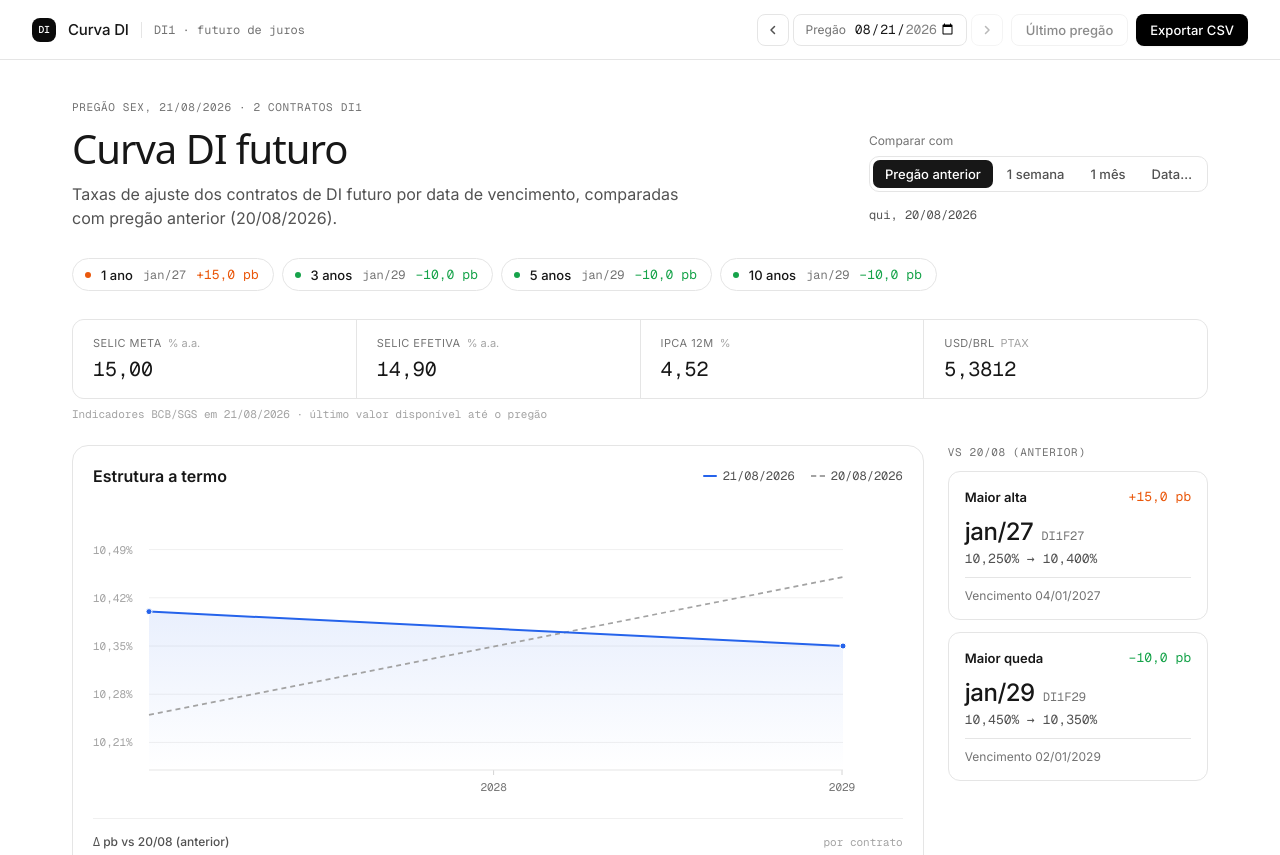
Test: App › data específica sem pregão faz snap para trás
This screenshot has width=1280, height=855.
Click the button "Data…" at (1172, 174), box [1140,160,1204,188]
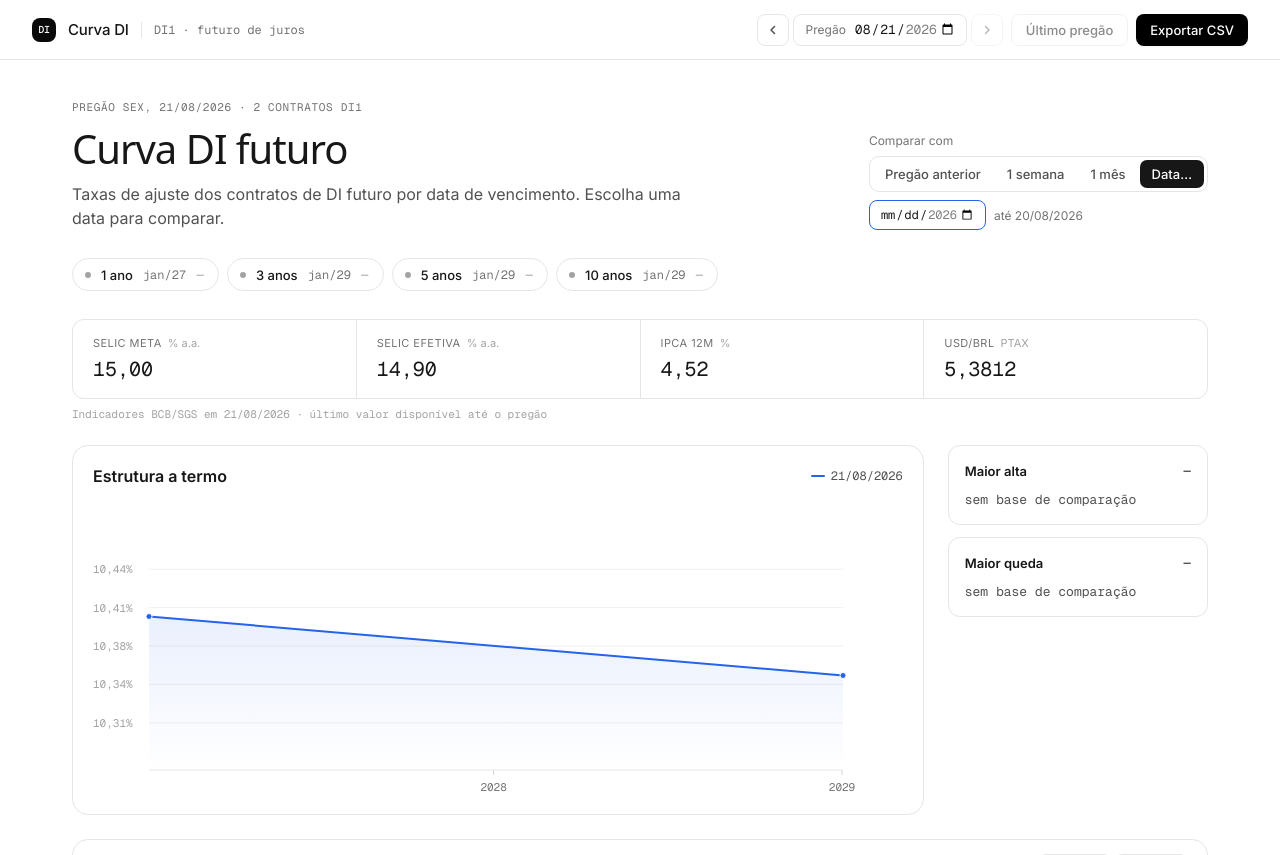
Type "2026-08-16" into the date field named "Data de comparação" at (927, 215), box [880,206,975,224]
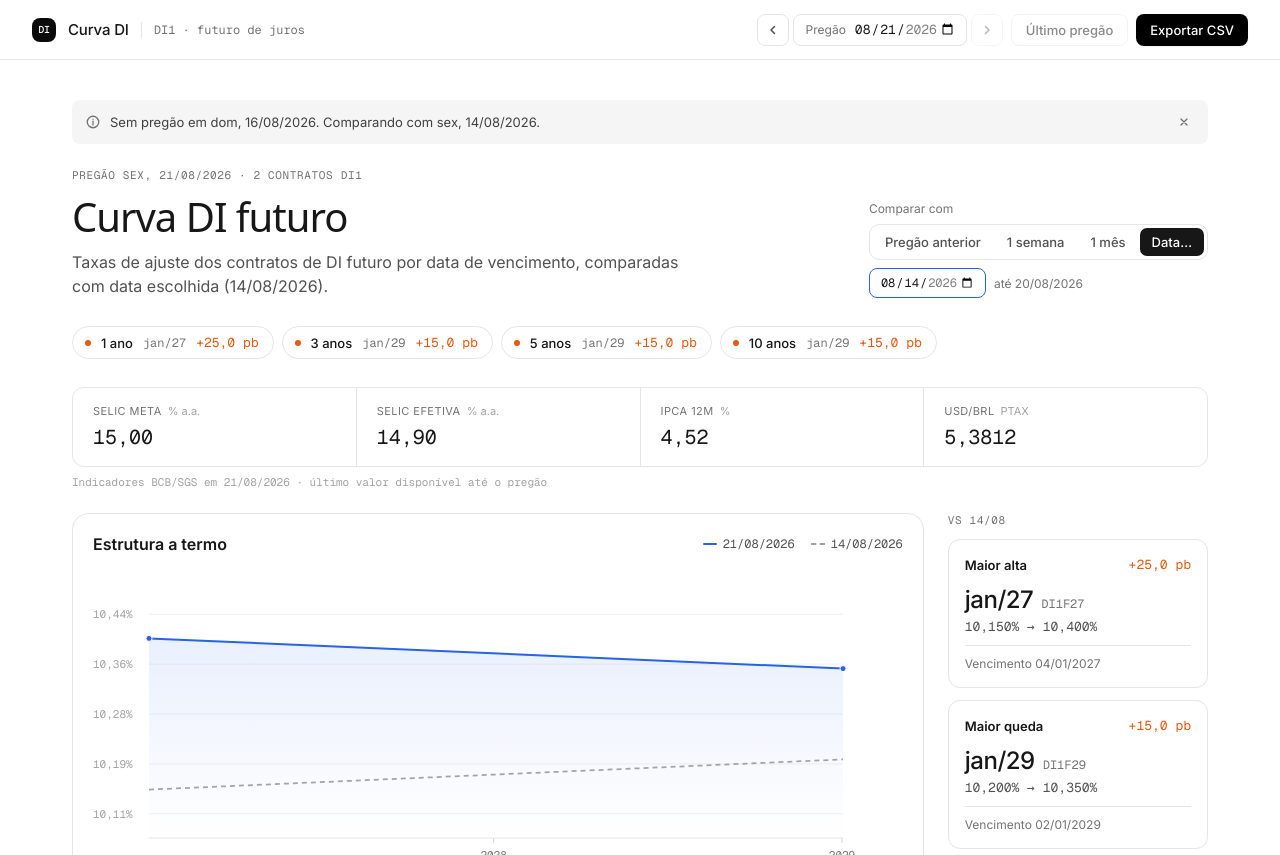
Expected: the date field named "Data de comparação" holds "2026-08-14", [880,274,975,292]
Expected: the element with test id "legend-base" reads "14/08/2026", [831,536,903,552]
Expected: the text "+25,0 pb" next to "Maior alta" is shown, [1129,556,1191,573]
